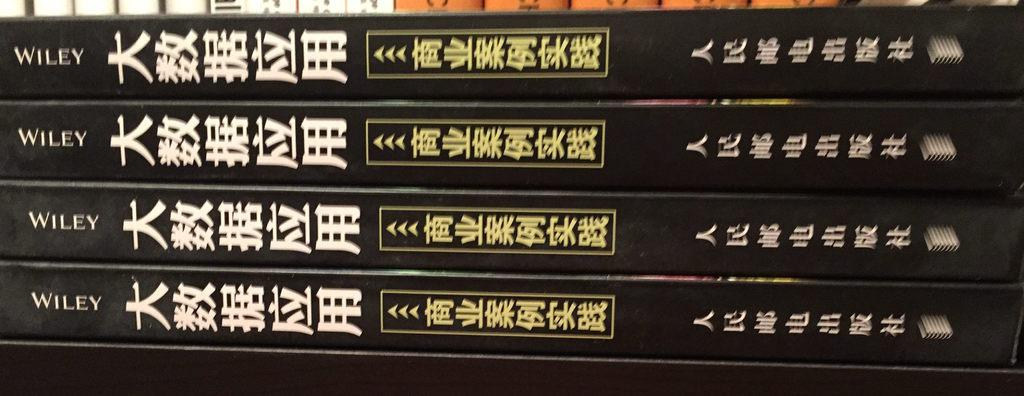Book: (0, 176, 1020, 286), (1, 258, 1023, 366), (0, 99, 1022, 205), (0, 0, 1023, 103), (0, 334, 1023, 395)
